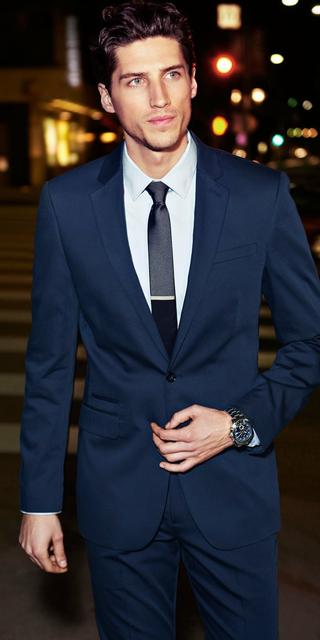F_M_suit jacket: (8, 135, 320, 559)
F_shirt: (118, 131, 202, 323)
F_tie: (142, 183, 186, 349)
